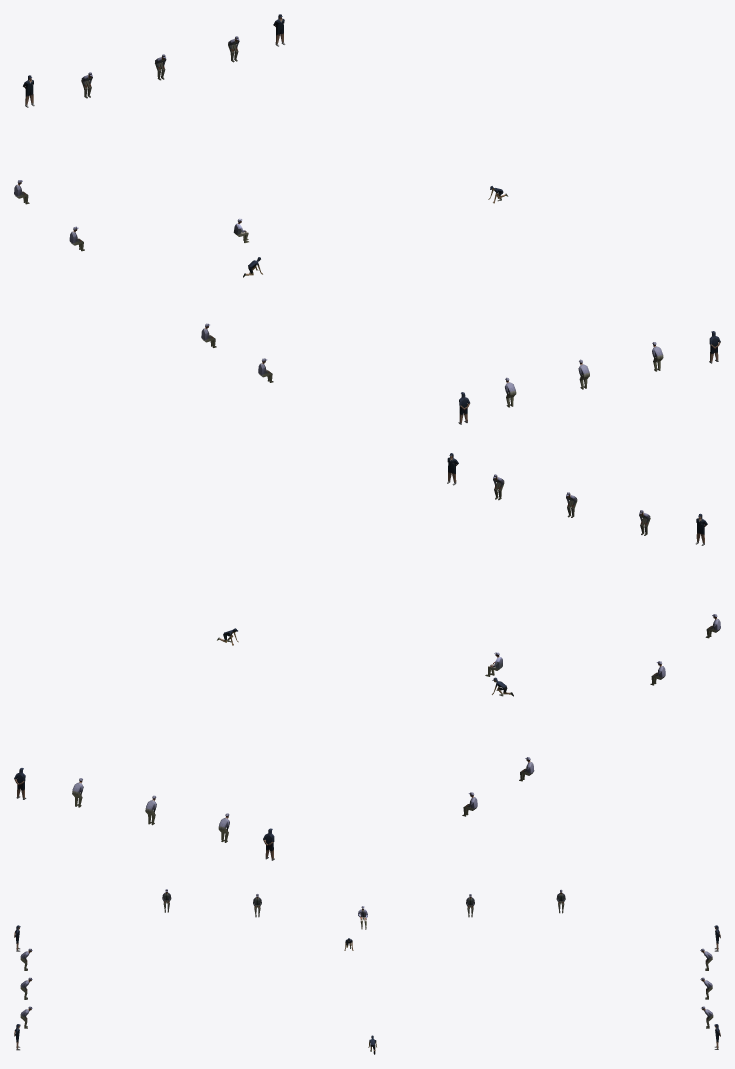
Rendered from court_3_2.obj.
3 views of the same model, one above another, from view 1: azimuth 30°, elevation 25°; view 2: azimuth 150°, elevation 25°; view 3: azimuth 270°, elevation 25° (orthographic). The views are drawn at different scales.
Bounding box in the file's own units: 21.12 × 3.09 × 42.43.
Materials: 4 (4 with a texture image).
